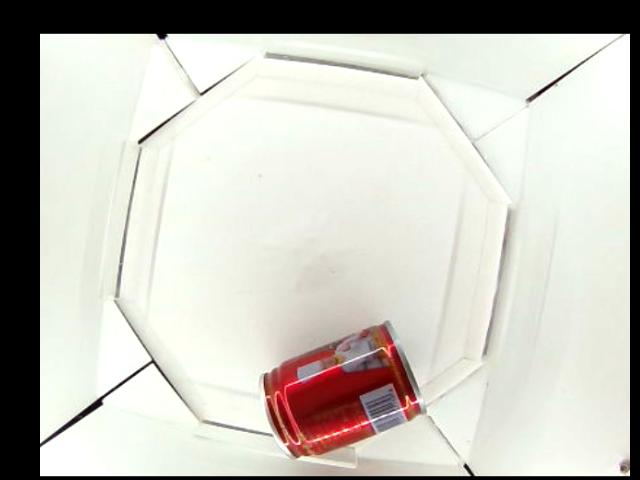Bottle: (254, 320, 428, 463)
